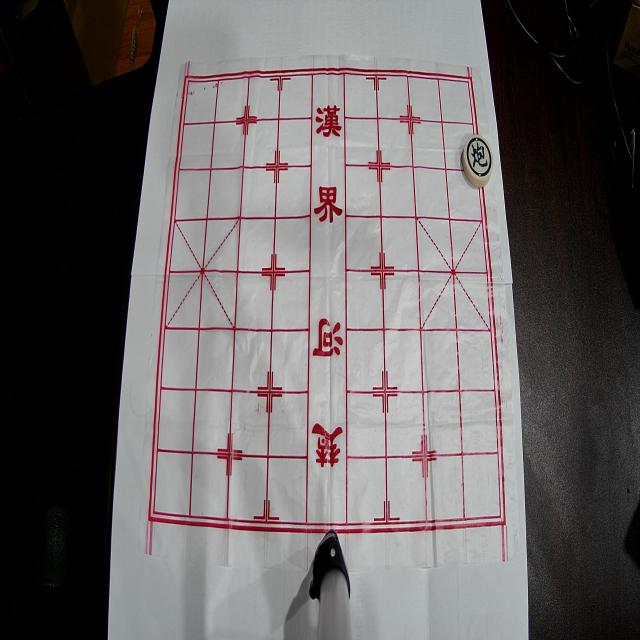black-cannon: (462, 135, 493, 187)
